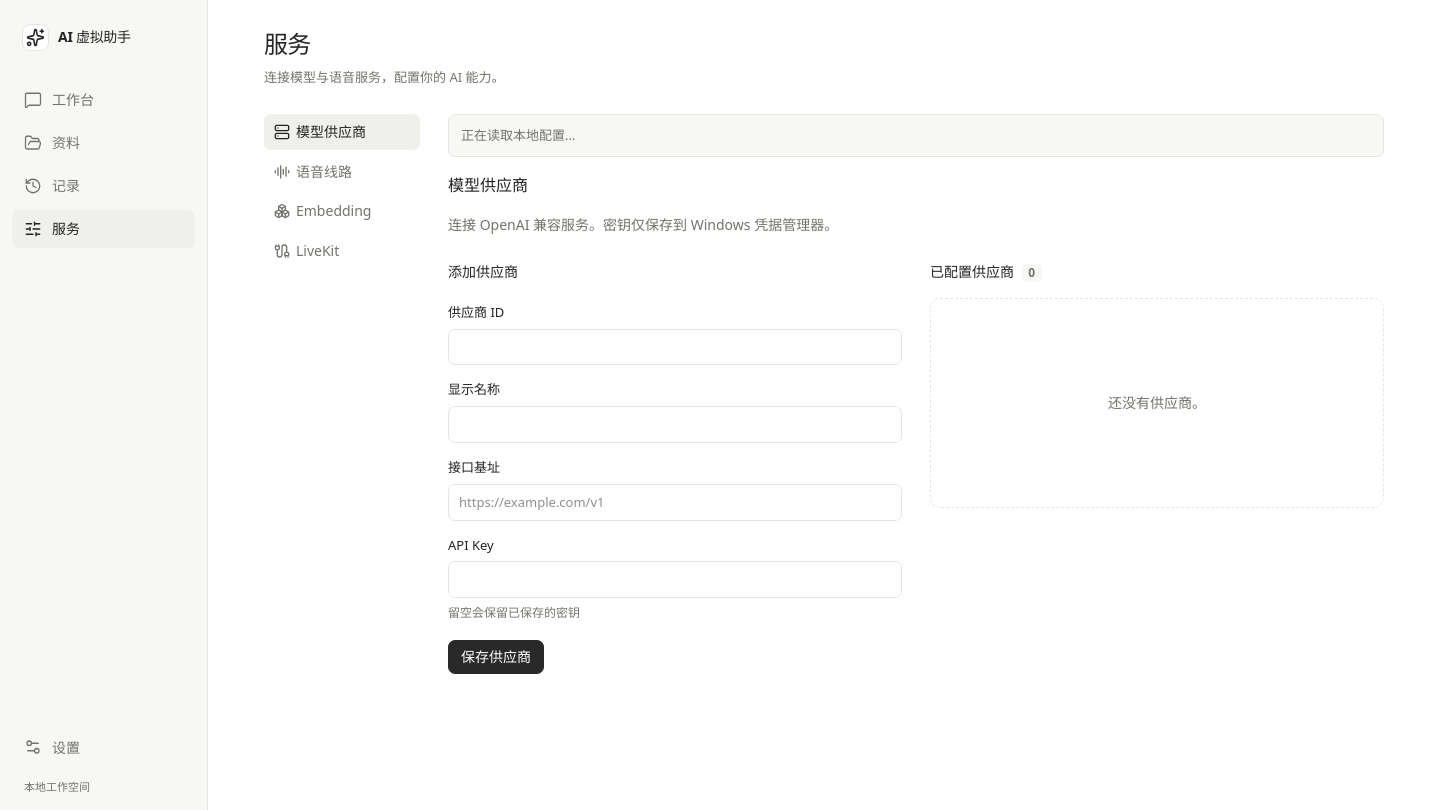
Shell › starts the new page at the top after navigating from a long form
This screenshot has width=1440, height=810.
Click the button "工作台": (104, 100) [12,81,195,119]
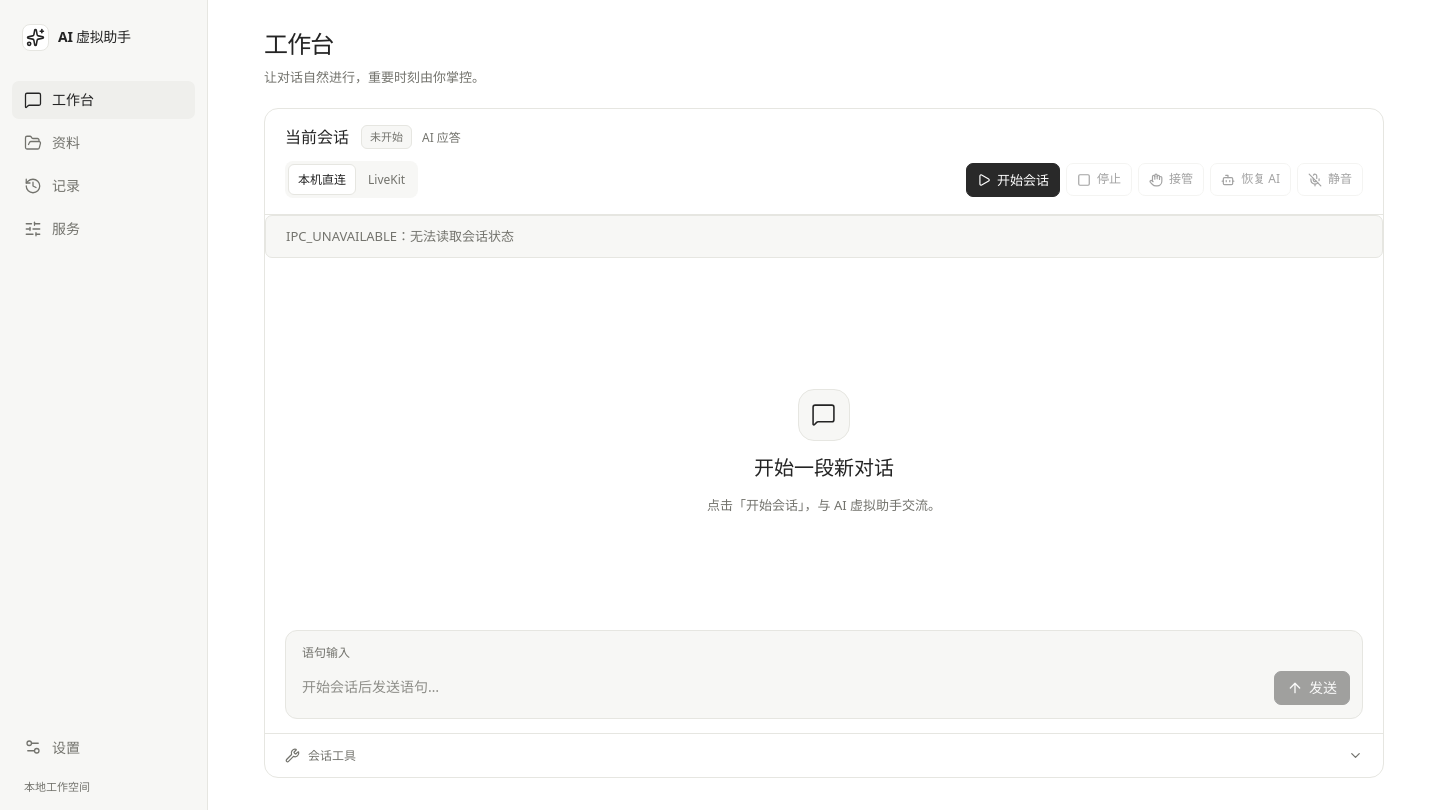
Result: the heading "工作台" is shown at [264,27,334,60]
